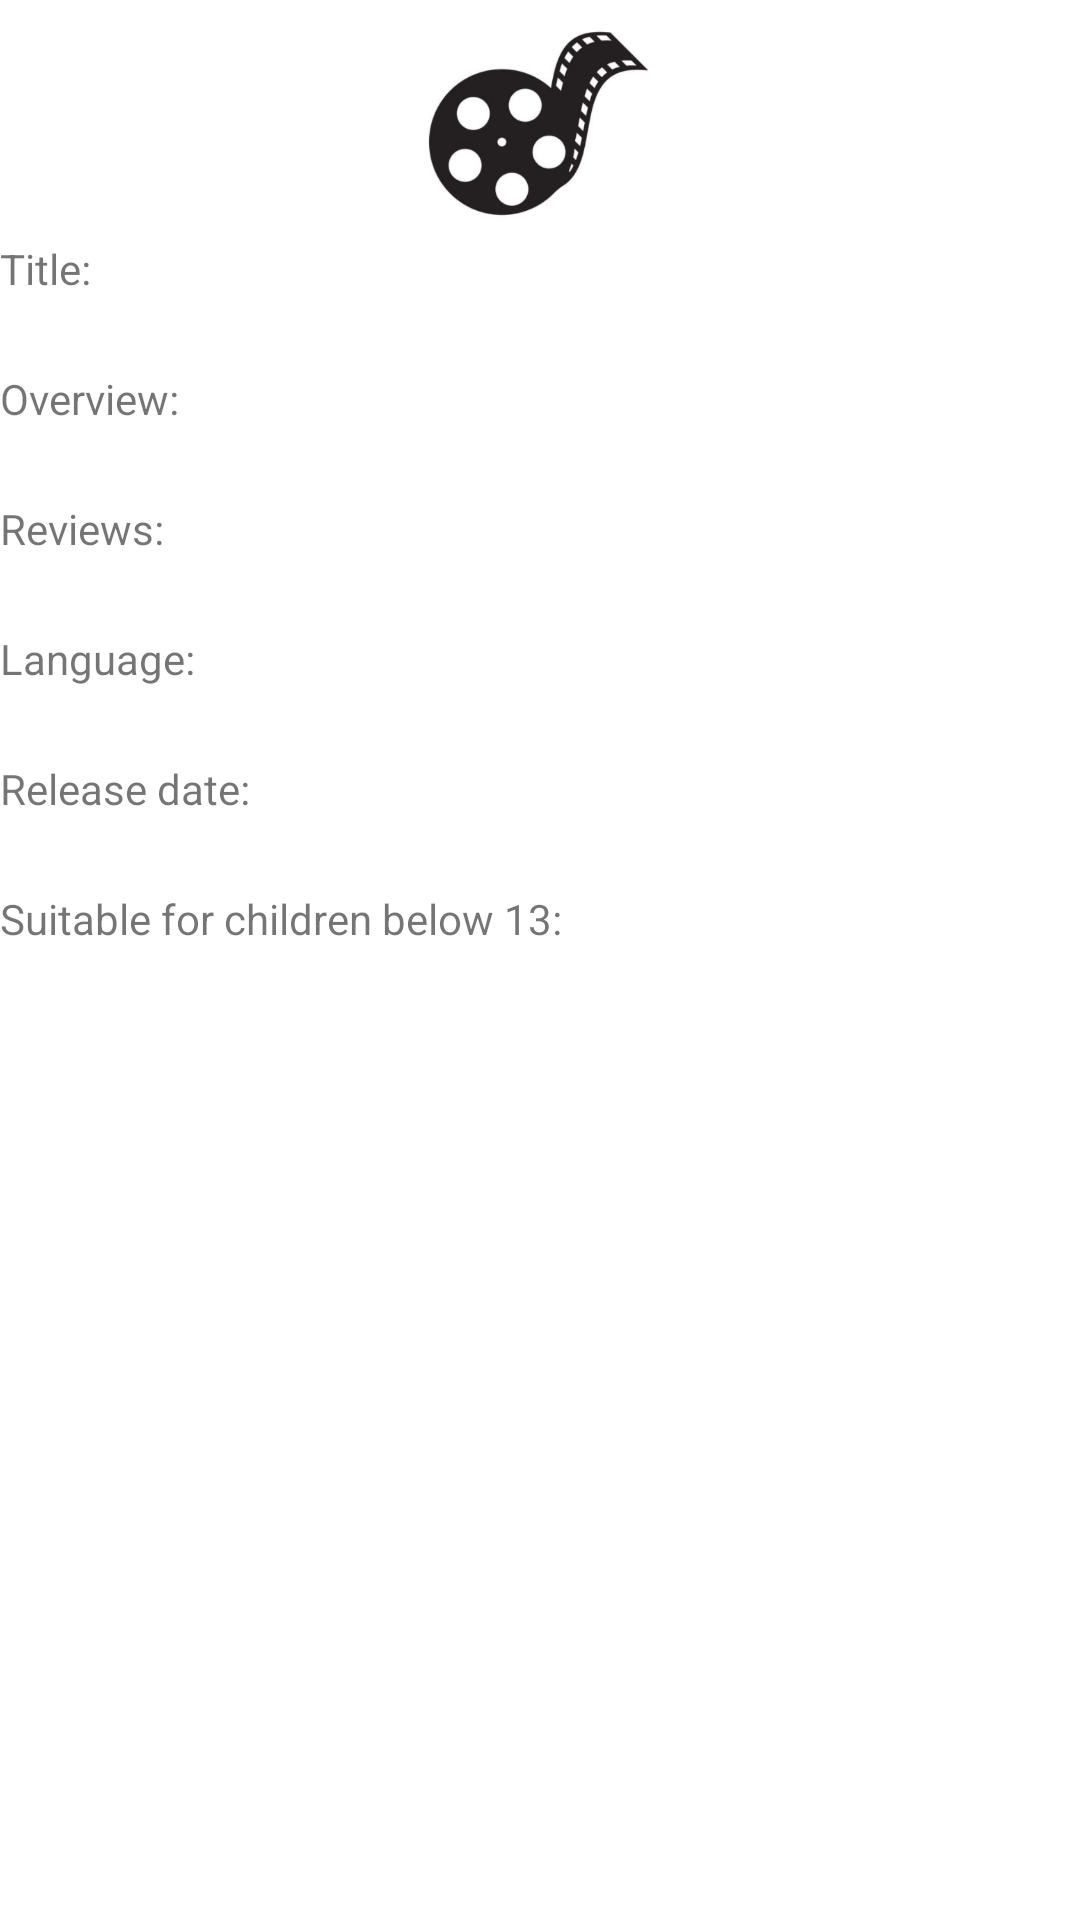

Screen size 1080×1920. Icon name, then its box in pixels as (x1, y1, x2, y2):
movie: (429, 31, 648, 216)
